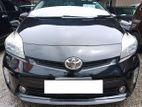car: (3, 0, 140, 107)
